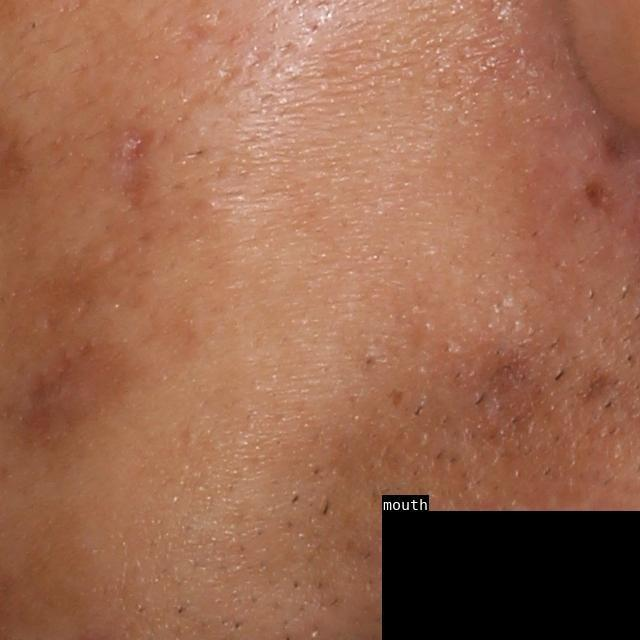atrophic_scar: (109, 120, 173, 212)
